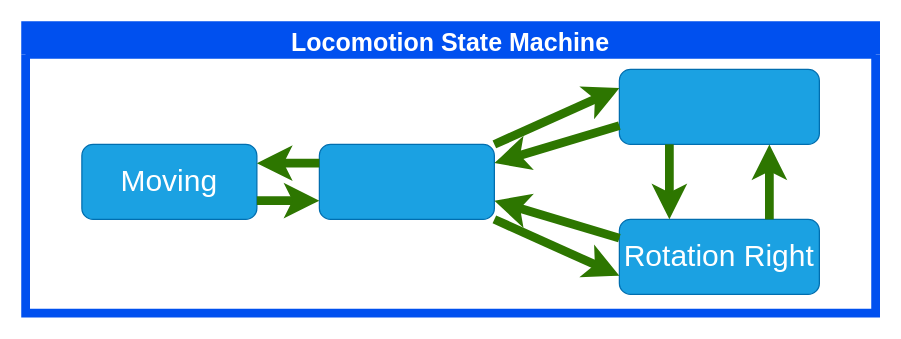
Image size: 901x339. Some labels were removed from this diagram. Here are the shapes that lost their labels. From the top down, the centre of each, then its label:
the point at 718,106: Rotation Left
the point at 406,181: Not Moving
